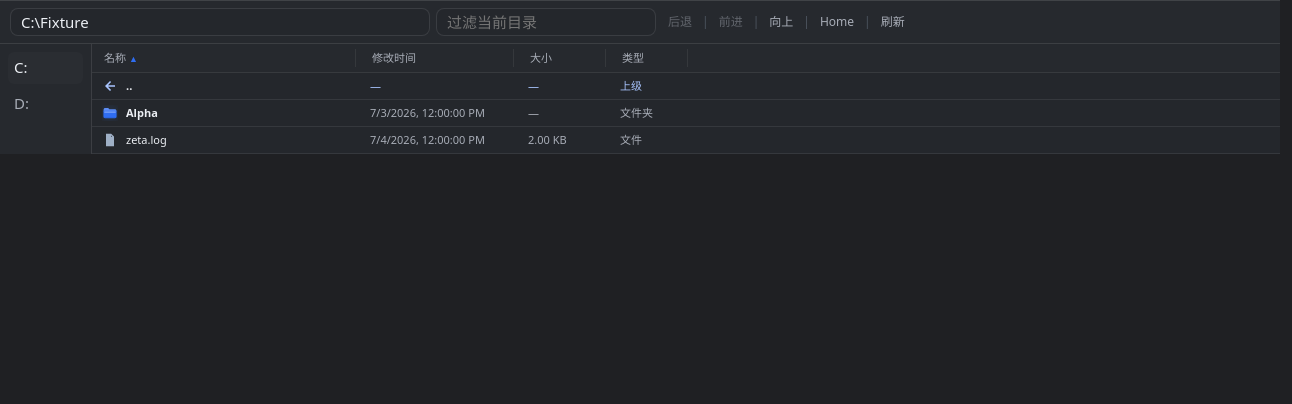
it: LocalExplorerPanel › shows local-only context menus for file rows and blank table space
Right-click the button with test id "sftp-entry-row" that starts with "zeta.log" at (146, 140), box top-left (92, 127), bottom-right (1280, 154)
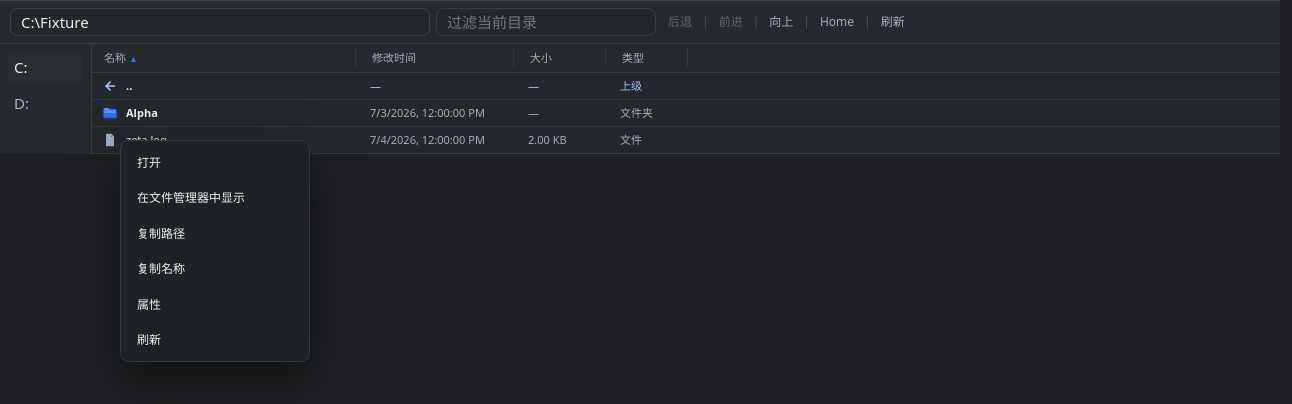
Expected: the text "打开" is shown
Expected: the text "在文件管理器中显示" is shown, top-left (126, 181), bottom-right (304, 215)
Expected: the text "复制路径" is shown, top-left (126, 217), bottom-right (304, 250)
Click the menu item "打开" at (215, 163), box top-left (126, 146), bottom-right (304, 179)
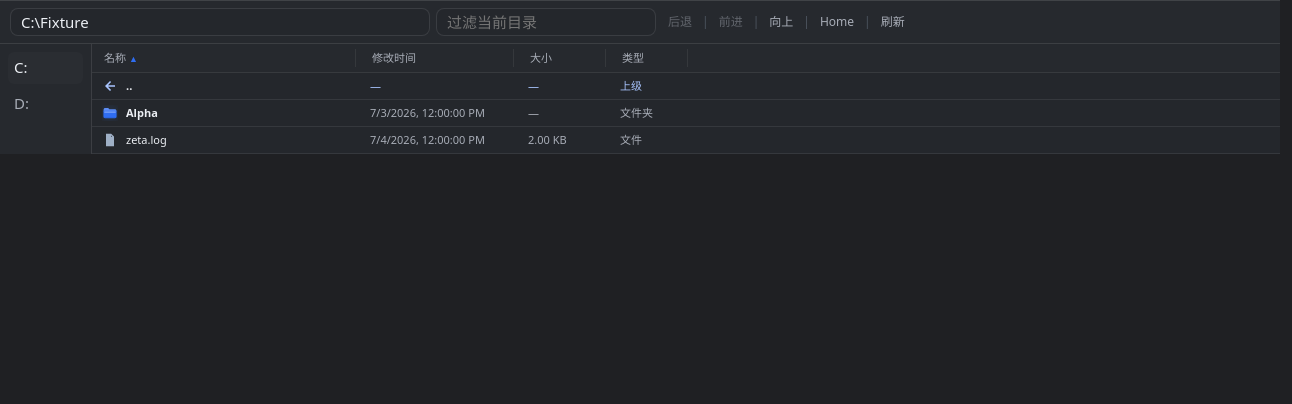
Right-click the button with test id "sftp-entry-row" that starts with "zeta.log" at (146, 140), box top-left (92, 127), bottom-right (1280, 154)
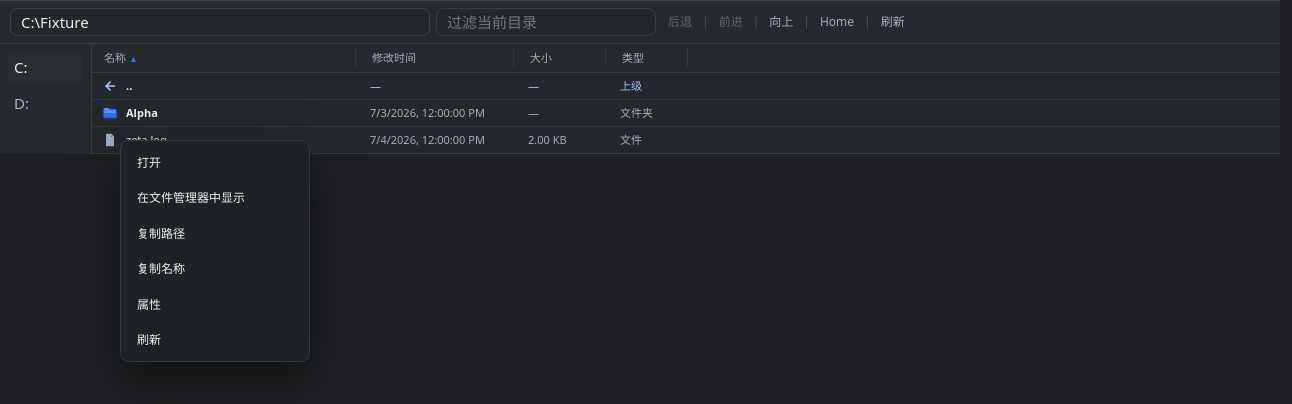
Click the menu item "复制路径" at (215, 234), box top-left (126, 217), bottom-right (304, 250)
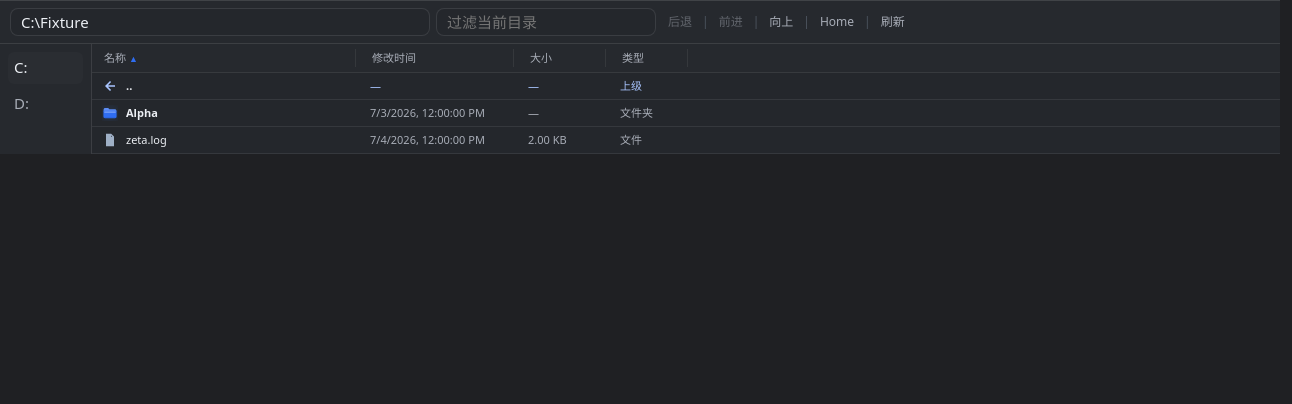
Right-click the element with test id "local-explorer-table" at (686, 99), box top-left (92, 44), bottom-right (1280, 154)
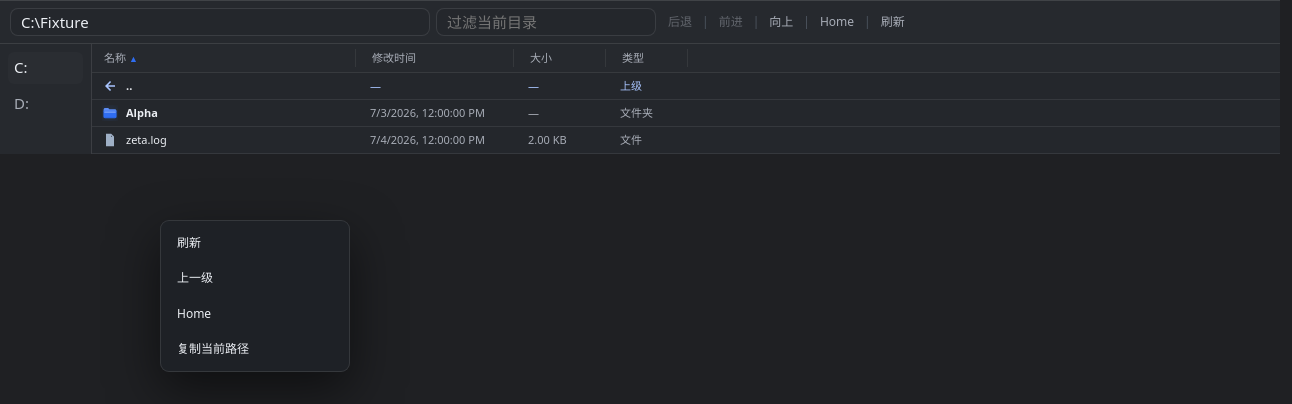
Expected: the text "Home" is shown, top-left (814, 8), bottom-right (860, 36)
Expected: the text "上一级" is shown, top-left (166, 261), bottom-right (344, 295)
Expected: the text "复制当前路径" is shown, top-left (166, 332), bottom-right (344, 366)
